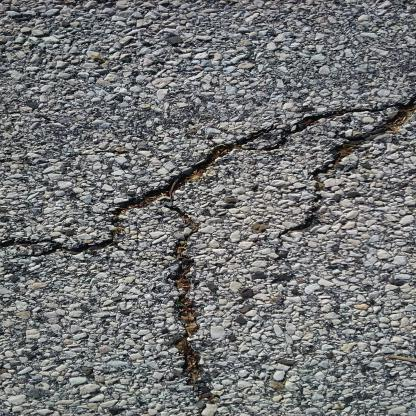Cracks: (0, 90, 416, 259), (151, 202, 222, 416)
